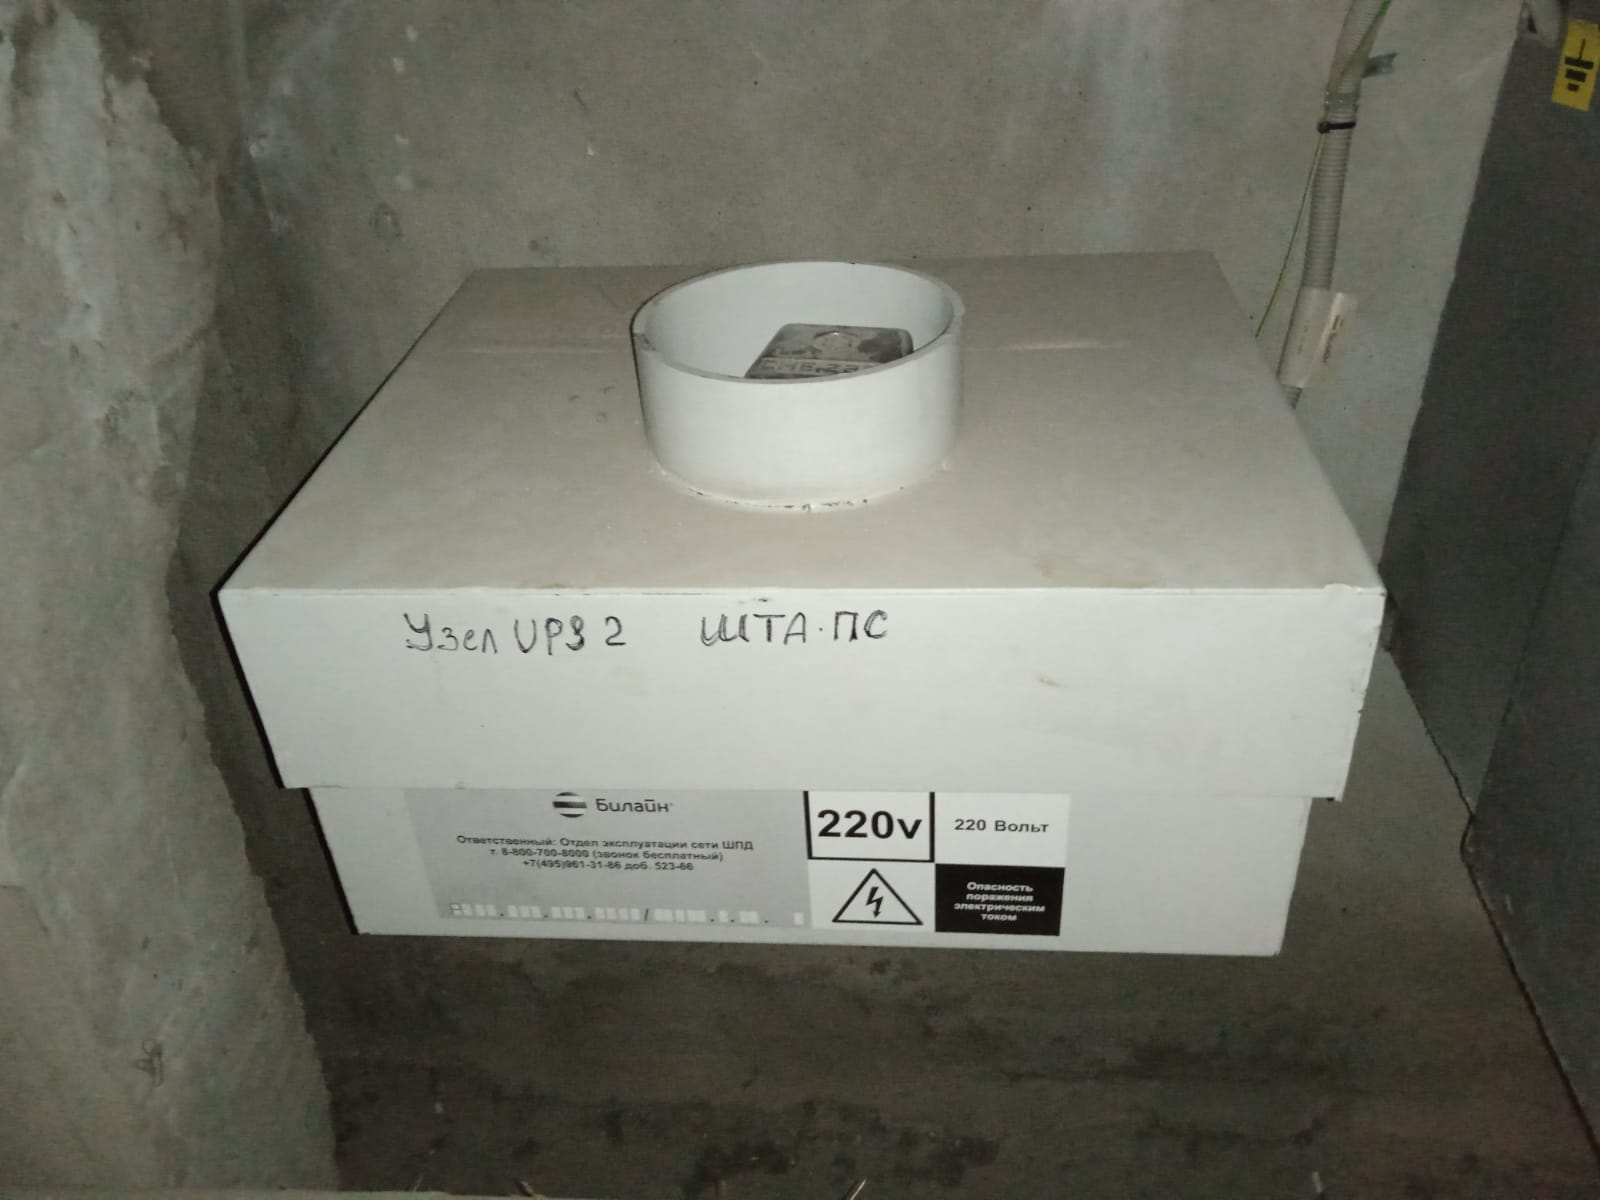shta-ps: (210, 233, 1396, 962)
